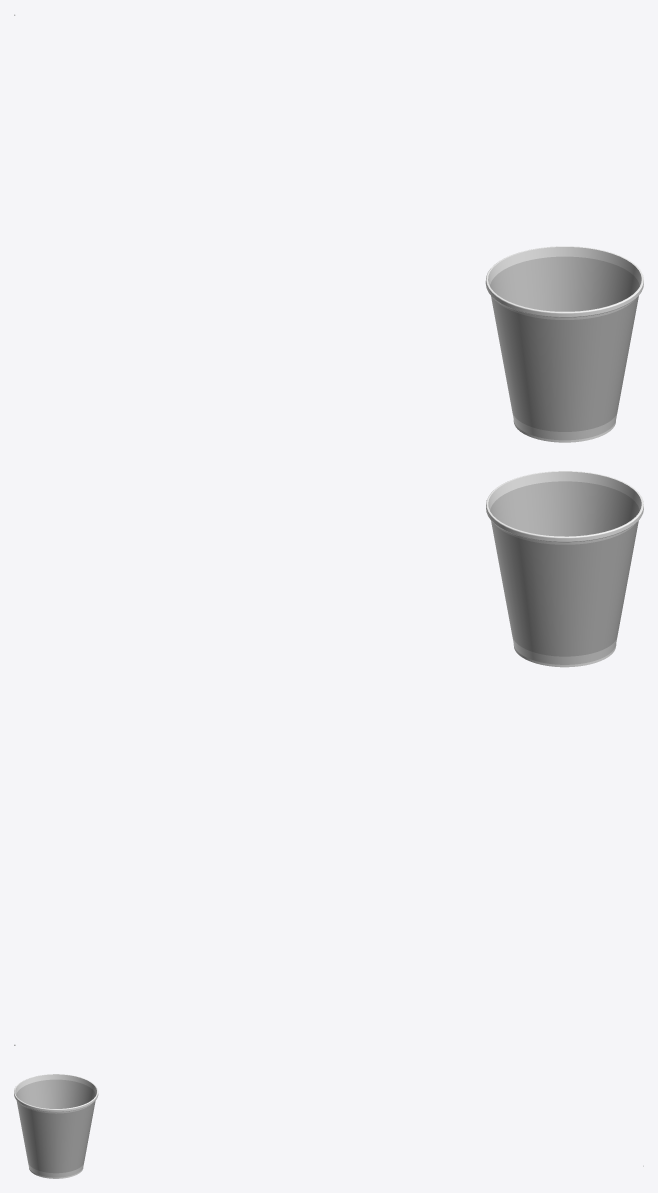
Rendered from dustbin.fbx.
The picture shows the model from 3 angles, top to bottom: view 1: azimuth 30°, elevation 25°; view 2: azimuth 150°, elevation 25°; view 3: azimuth 270°, elevation 25°; orthographic projection. The views are drawn at different scales.
Parts seen in each view (by area): view 1: Cone001; view 2: Cone001; view 3: Cone001.
Boxes of the visible parts, x1=… form: Cone001: x1=485, y1=246, x2=643, y2=442; Cone001: x1=486, y1=471, x2=643, y2=667; Cone001: x1=14, y1=1074, x2=98, y2=1178.
Bounding box in the file's own units: 1997 × 1973 × 14903.
Materials: 4 (1 with a texture image).
